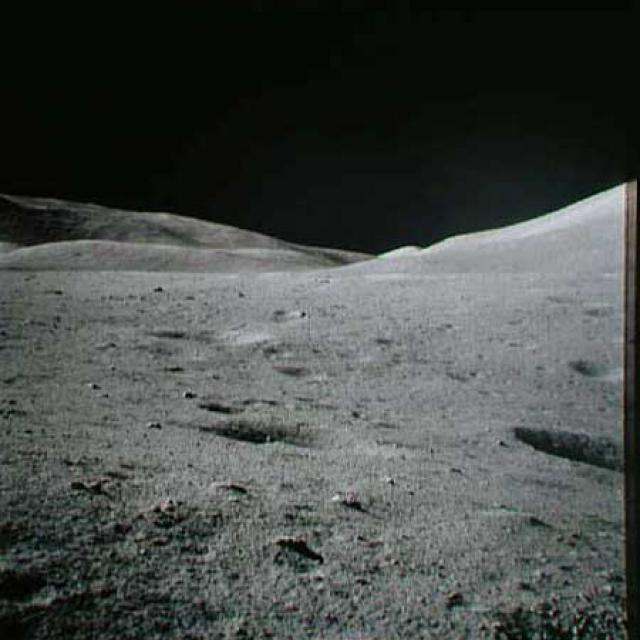crater: (189, 415, 432, 470), (503, 412, 638, 490), (146, 313, 274, 355), (560, 356, 630, 387), (192, 386, 246, 424)
